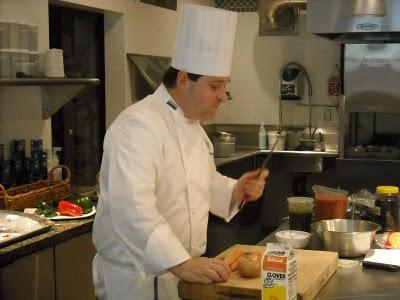person: (90, 4, 267, 300)
